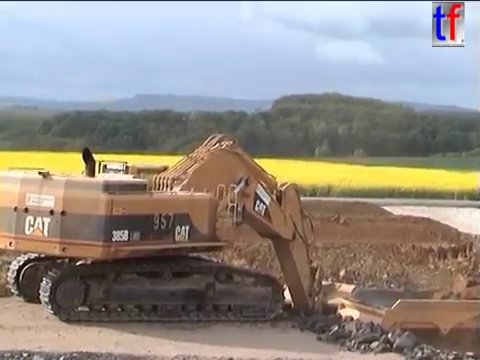excavator: (1, 131, 347, 348)
truck: (231, 276, 396, 360), (333, 285, 480, 360)
